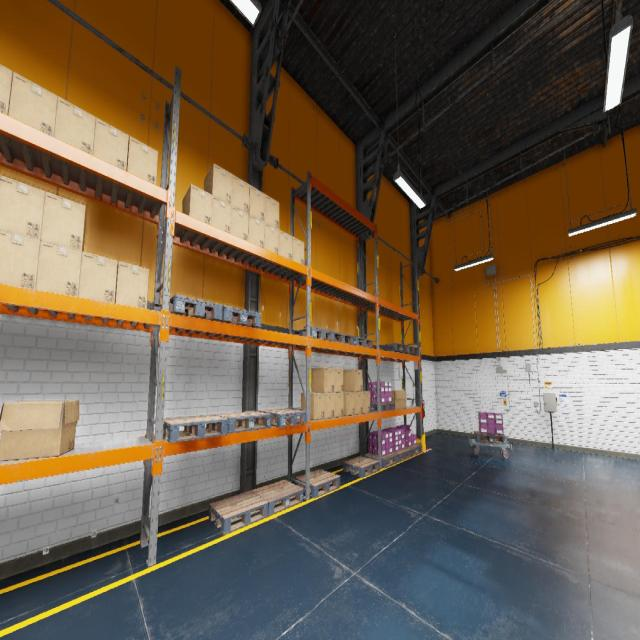box: (0, 400, 79, 461), (8, 72, 58, 136), (0, 175, 45, 240), (40, 192, 86, 252), (36, 241, 81, 296), (54, 96, 96, 154), (0, 229, 40, 289), (78, 251, 118, 303), (93, 117, 129, 171), (115, 260, 149, 308), (126, 136, 158, 184), (182, 183, 212, 224), (204, 163, 232, 204), (212, 195, 232, 233), (0, 64, 13, 115), (232, 174, 249, 213), (230, 205, 248, 241), (301, 392, 324, 420), (249, 185, 265, 222), (248, 214, 265, 248), (312, 367, 334, 392), (265, 194, 279, 229), (264, 222, 279, 254), (343, 369, 362, 391), (345, 391, 363, 414), (279, 230, 292, 260), (292, 236, 304, 265), (389, 390, 406, 408), (344, 391, 355, 416), (334, 392, 344, 417), (334, 368, 344, 392), (325, 392, 334, 418), (363, 391, 370, 413)
pallets: (209, 490, 268, 534), (252, 480, 303, 516), (163, 415, 228, 442), (170, 294, 222, 321), (295, 469, 340, 498), (214, 411, 271, 433), (219, 305, 261, 328), (259, 408, 307, 428), (343, 456, 380, 477), (293, 326, 334, 341), (365, 452, 399, 468), (316, 332, 354, 344), (474, 431, 507, 444), (346, 336, 373, 348), (379, 343, 408, 353), (370, 402, 396, 412), (393, 448, 411, 462), (405, 444, 422, 456), (401, 346, 418, 354)
